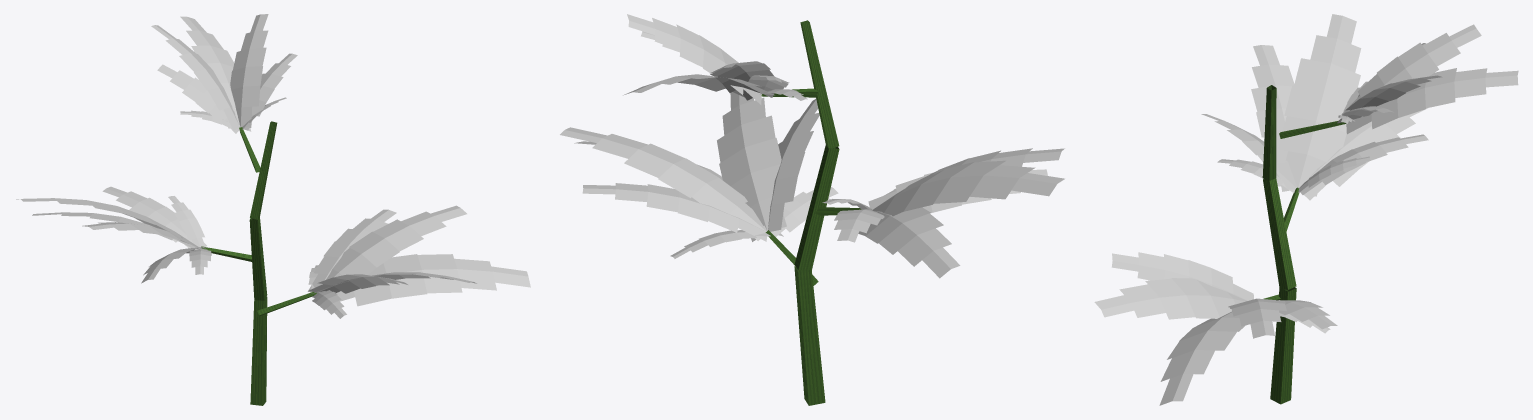
The model's file is plant_1_0_0.obj.
3 views of the same model, side by side, from view 1: azimuth 30°, elevation 25°; view 2: azimuth 150°, elevation 25°; view 3: azimuth 270°, elevation 25° (orthographic). The views are drawn at different scales.
Parts seen in each view (by area): view 1: model; view 2: model; view 3: model.
Part boxes in pixels (x1=…): model: x1=16, y1=14, x2=530, y2=405; model: x1=560, y1=14, x2=1064, y2=405; model: x1=1094, y1=14, x2=1518, y2=405.
Bounding box in the file's own units: 0.4797 × 0.338 × 0.3553.
